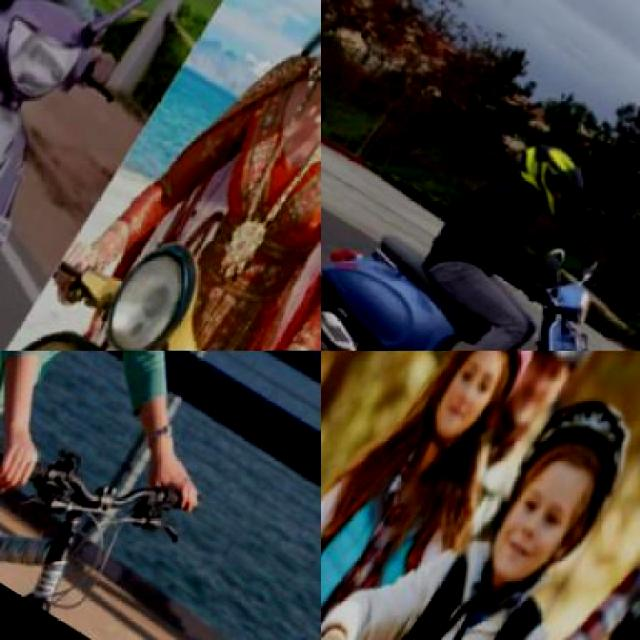With Helmet: (431, 356, 638, 638), (400, 351, 565, 471), (482, 351, 623, 454), (489, 117, 613, 234)
